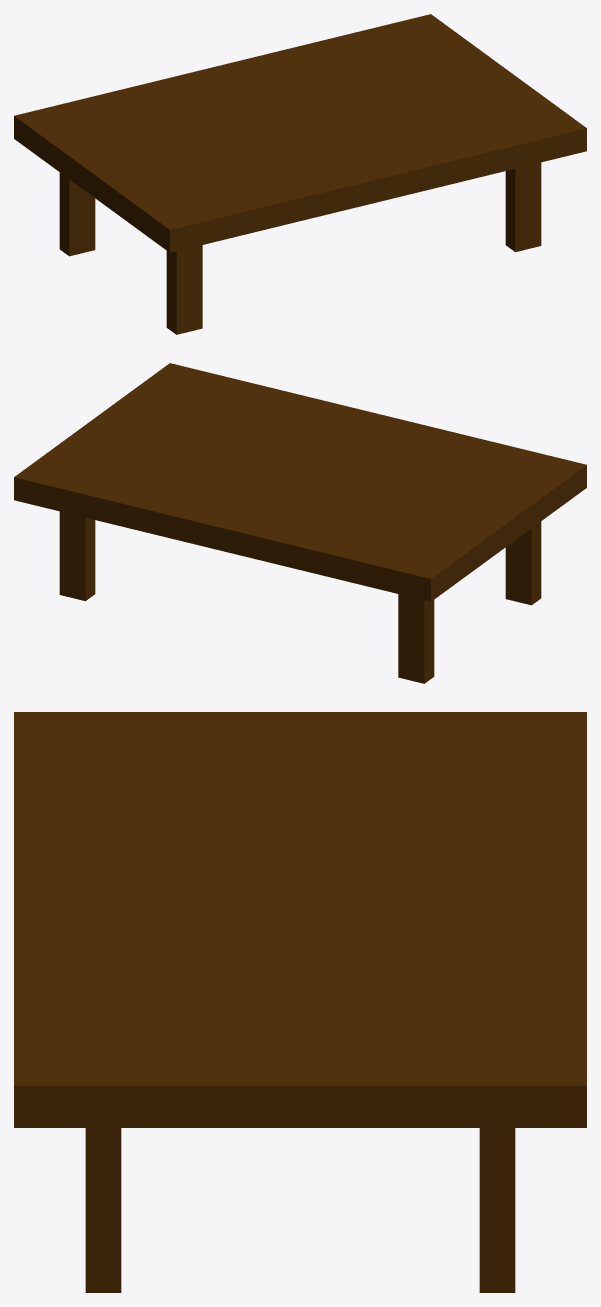
Rendered from table.fbx.
The picture shows the model from 3 angles, top to bottom: view 1: azimuth 30°, elevation 25°; view 2: azimuth 150°, elevation 25°; view 3: azimuth 270°, elevation 25°; orthographic projection. The views are drawn at different scales.
Visible parts, largest first — view 1: Cube.004; view 2: Cube.004; view 3: Cube.004.
Boxes of the visible parts, bbox=[...] form: Cube.004: bbox=[14, 14, 586, 334]; Cube.004: bbox=[14, 363, 586, 683]; Cube.004: bbox=[14, 712, 586, 1292].
Bounding box in the file's own units: 192 × 55.38 × 125.
